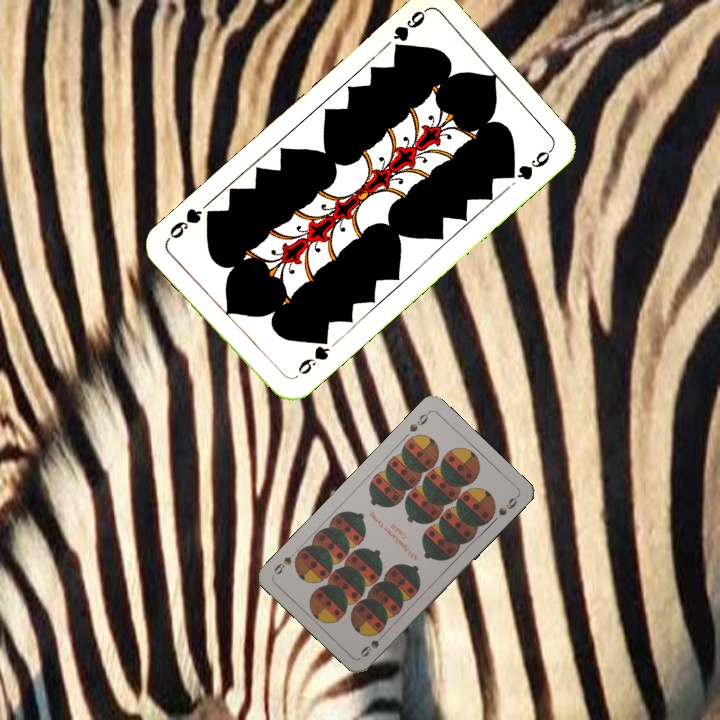G9: (389, 5, 429, 58), (294, 332, 332, 377)
S9: (356, 627, 389, 660), (405, 408, 432, 435)
